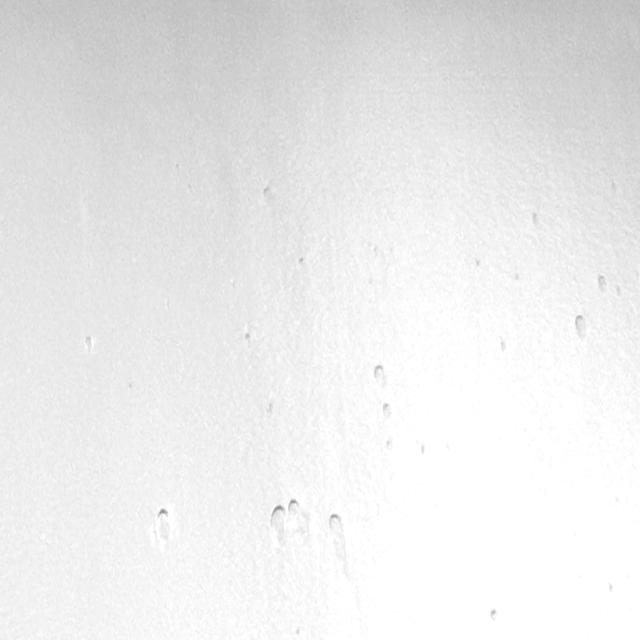pin holes: (323, 515, 350, 566), (286, 495, 310, 548), (151, 506, 175, 546), (266, 503, 289, 535), (570, 312, 590, 340), (370, 362, 390, 388), (528, 210, 548, 234), (485, 603, 503, 625), (593, 272, 609, 296), (259, 184, 276, 205), (379, 401, 395, 421), (497, 337, 513, 357), (82, 334, 96, 354), (296, 255, 310, 272), (612, 284, 626, 301), (474, 255, 484, 276), (242, 330, 255, 346), (384, 437, 396, 454), (264, 402, 276, 419), (417, 443, 428, 459), (293, 625, 304, 639)
